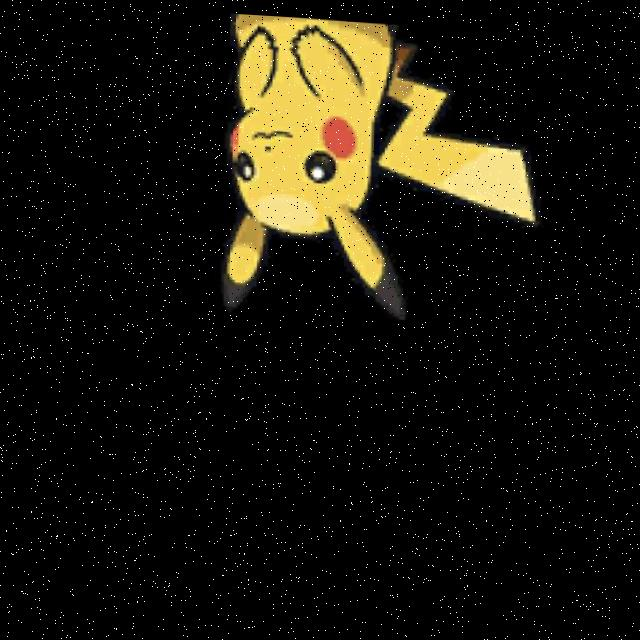Pikachu: (131, 6, 576, 428)
